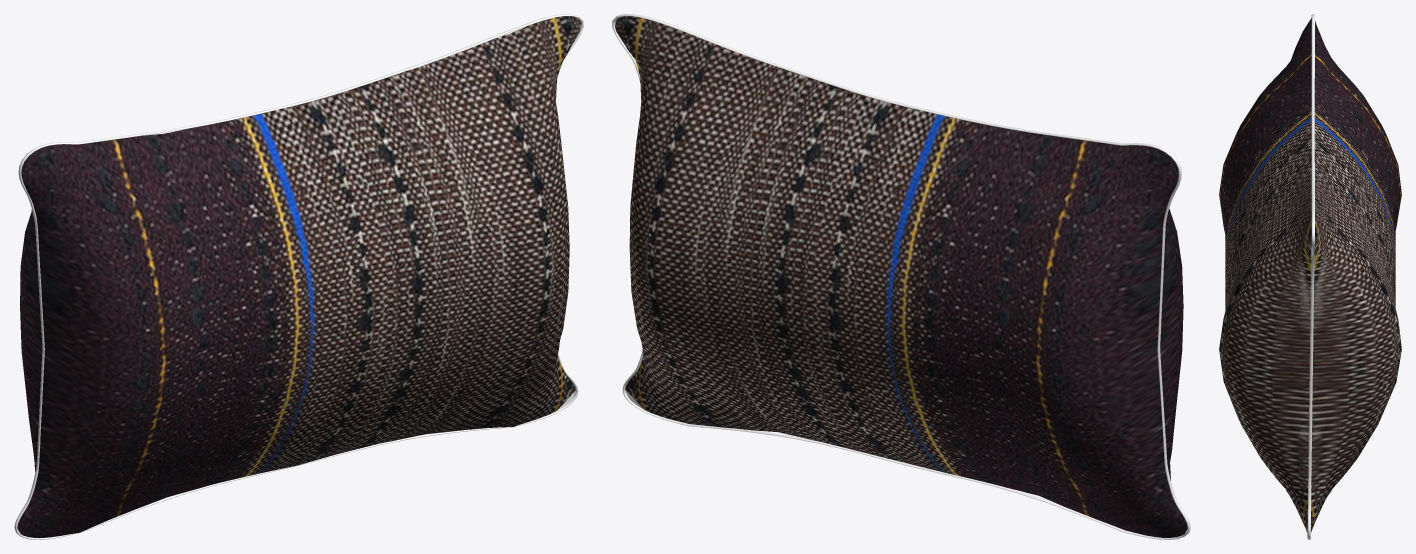
File: Dark_TulumCushion-Lumbar.glb
The picture shows the model from 3 angles, left to right: view 1: azimuth 30°, elevation 25°; view 2: azimuth 150°, elevation 25°; view 3: azimuth 270°, elevation 25°; orthographic projection. The views are drawn at different scales.
Parts seen in each view (by area): view 1: model 8; view 2: model 8; view 3: model 8.
Part boxes in pixels (x1,y1,x2,y2): model 8: [14, 14, 583, 539]; model 8: [612, 14, 1190, 539]; model 8: [1219, 14, 1401, 539].
Size of the model in its own units: 0.6 by 0.4 by 0.2036.
2 materials, 1 textured.
